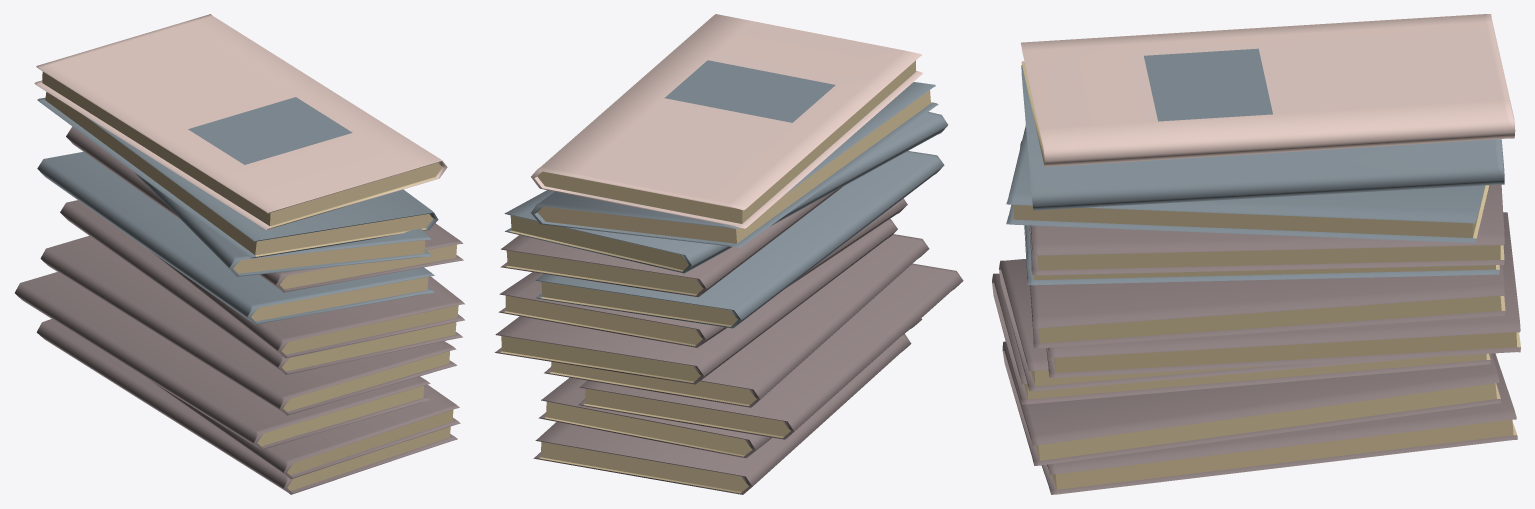
The model's file is stack of folders.fbx.
3 views of the same model, side by side, from view 1: azimuth 30°, elevation 25°; view 2: azimuth 150°, elevation 25°; view 3: azimuth 270°, elevation 25° (orthographic). The views are drawn at different scales.
Parts seen in each view (by area): view 1: Cube.010; view 2: Cube.010; view 3: Cube.010.
Part boxes in pixels (left/top/right/bottom): Cube.010: left=15, top=14, right=464, bottom=494; Cube.010: left=494, top=14, right=963, bottom=494; Cube.010: left=992, top=14, right=1520, bottom=494.
Size of the model in its own units: 20.41 by 20.94 by 28.93.
